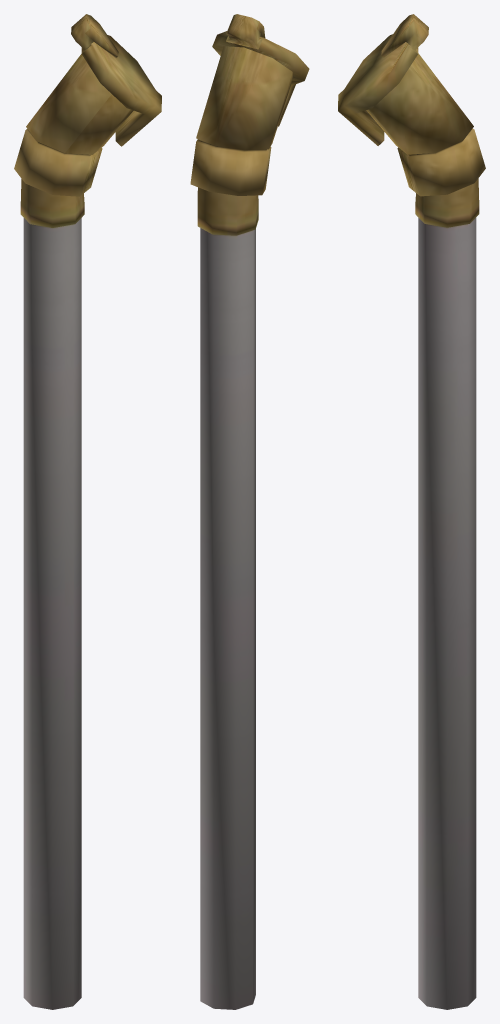
The model's file is soundTube.obj.
The picture shows the model from 3 angles, left to right: view 1: azimuth 90°, elevation 25°; view 2: azimuth 150°, elevation 25°; view 3: azimuth 270°, elevation 25°; orthographic projection.
Parts seen in each view (by area): view 1: soundTube.obj; view 2: soundTube.obj; view 3: soundTube.obj.
Boxes of the visible parts, x1,y1,x2,y2 form: soundTube.obj: (14, 14, 161, 1009); soundTube.obj: (190, 14, 309, 1009); soundTube.obj: (338, 14, 485, 1009).
Bounding box in the file's own units: 2.74 × 31.89 × 4.36.
